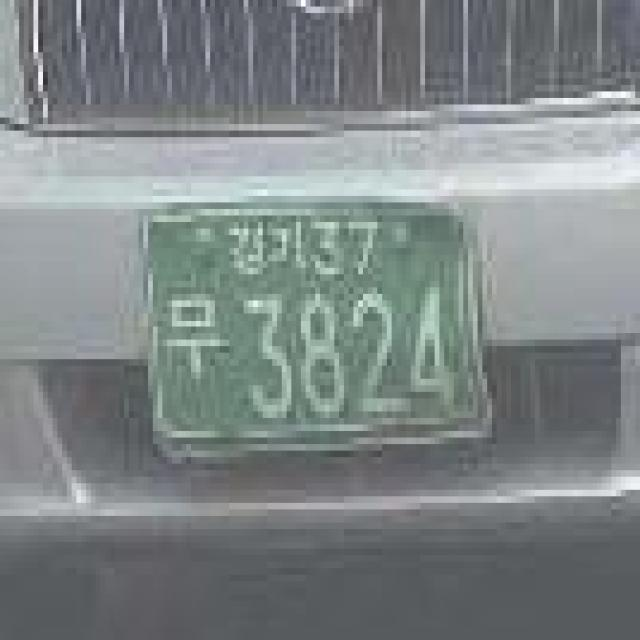illegal_plate: (133, 180, 500, 480)
